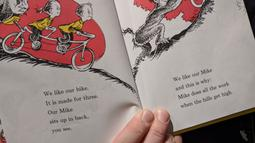text block: (36, 83, 101, 135), (168, 62, 235, 110)
